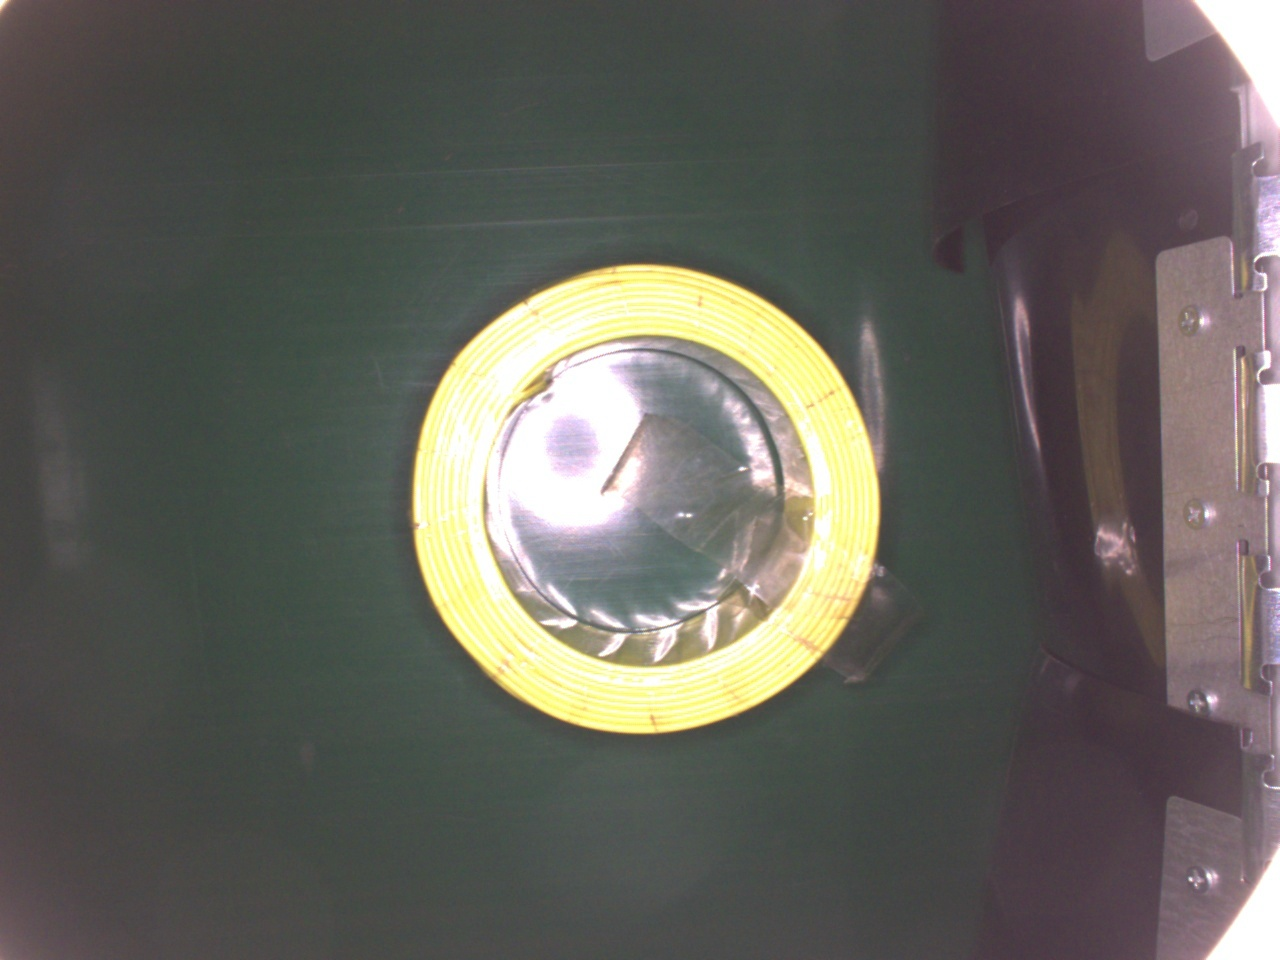yellow: (408, 263, 883, 735)
